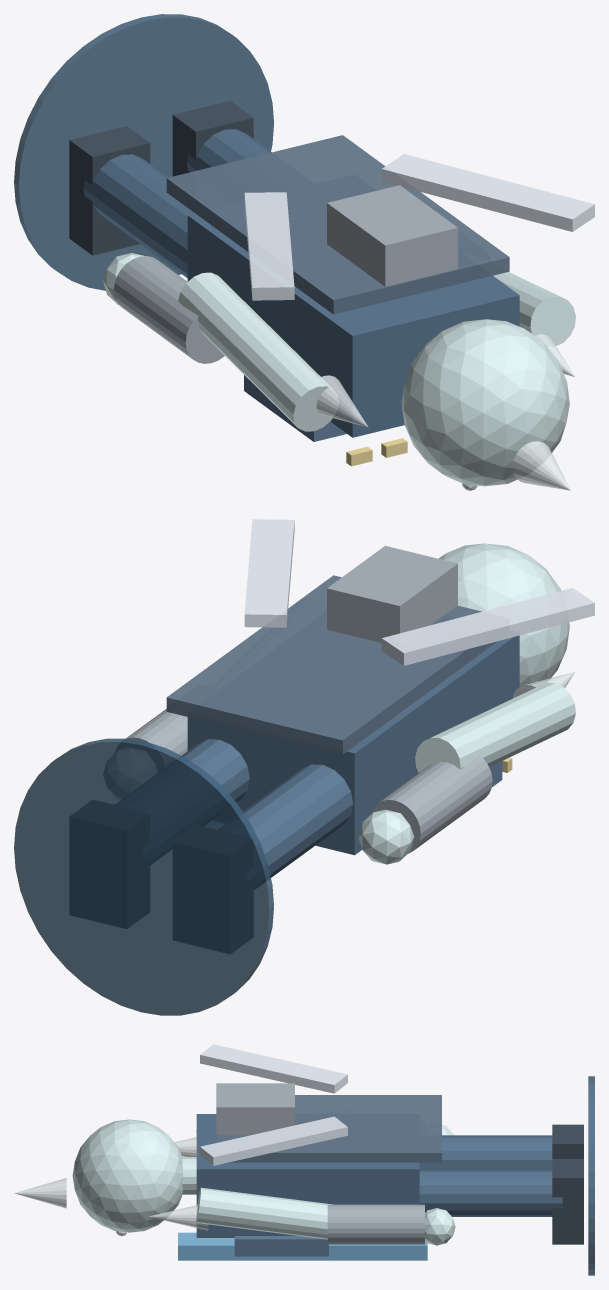
File: SW_NPC_012_luma_voidson.glb
3 views of the same model, one above another, from view 1: azimuth 30°, elevation 25°; view 2: azimuth 150°, elevation 25°; view 3: azimuth 270°, elevation 25° (orthographic). The views are drawn at different scales.
Visible parts, largest first — view 1: round_base_plate, torso_uniform, head, storm_cloak, left_upper_arm, wingpack_core, left_leg, right_wing_rig, left_forearm_gauntlet, left_boot, left_wing_rig, right_boot (+6 smaller); view 2: round_base_plate, storm_cloak, torso_uniform, wingpack_core, head, left_upper_arm, left_leg, left_wing_rig, left_forearm_gauntlet, right_wing_rig, left_hand, right_leg (+1 smaller); view 3: head, torso_uniform, storm_cloak, right_leg, right_upper_arm, left_leg, right_forearm_gauntlet, wingpack_core, rank_sash, right_wing_rig, left_wing_rig, right_boot (+8 smaller).
Boxes of the visible parts, x1,y1,x2,y2 form: round_base_plate: (14,14,273,290); torso_uniform: (187,213,519,437); head: (401,319,569,486); storm_cloak: (166,135,509,314); left_upper_arm: (178,272,338,431); wingpack_core: (327,185,457,286); left_leg: (83,154,194,277); right_wing_rig: (381,154,594,231); left_forearm_gauntlet: (114,256,224,363); left_boot: (69,126,150,255); left_wing_rig: (244,192,294,300); right_boot: (172,100,253,176); round_base_plate: (14,738,273,1015); storm_cloak: (166,575,497,754); torso_uniform: (187,635,519,855); wingpack_core: (327,545,457,642); head: (438,543,569,694); left_upper_arm: (415,682,575,772); left_leg: (243,764,353,877); left_wing_rig: (381,588,594,665); left_forearm_gauntlet: (370,755,492,853); right_wing_rig: (244,519,294,627); left_hand: (358,809,414,864); right_leg: (182,739,249,802); head: (72,1119,183,1232); torso_uniform: (196,1114,419,1237); storm_cloak: (216,1095,441,1162); right_leg: (419,1169,562,1216); right_upper_arm: (196,1187,332,1239); left_leg: (419,1135,552,1169); right_forearm_gauntlet: (327,1204,424,1244); wingpack_core: (216,1083,294,1135); rank_sash: (178,1232,427,1260); right_wing_rig: (200,1116,347,1165); left_wing_rig: (200,1044,347,1093); right_boot: (552,1159,583,1244).
Size of the model in its own units: 1.06 by 0.7896 by 2.3.
